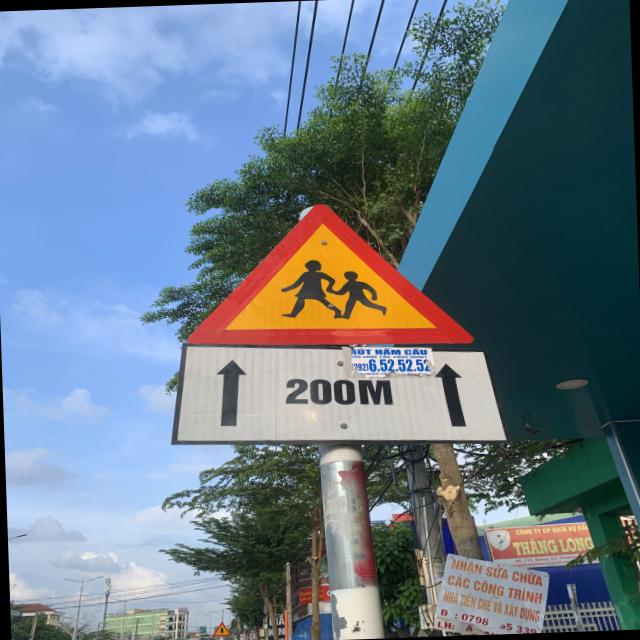Vong_Xuyen: (180, 200, 473, 354)
